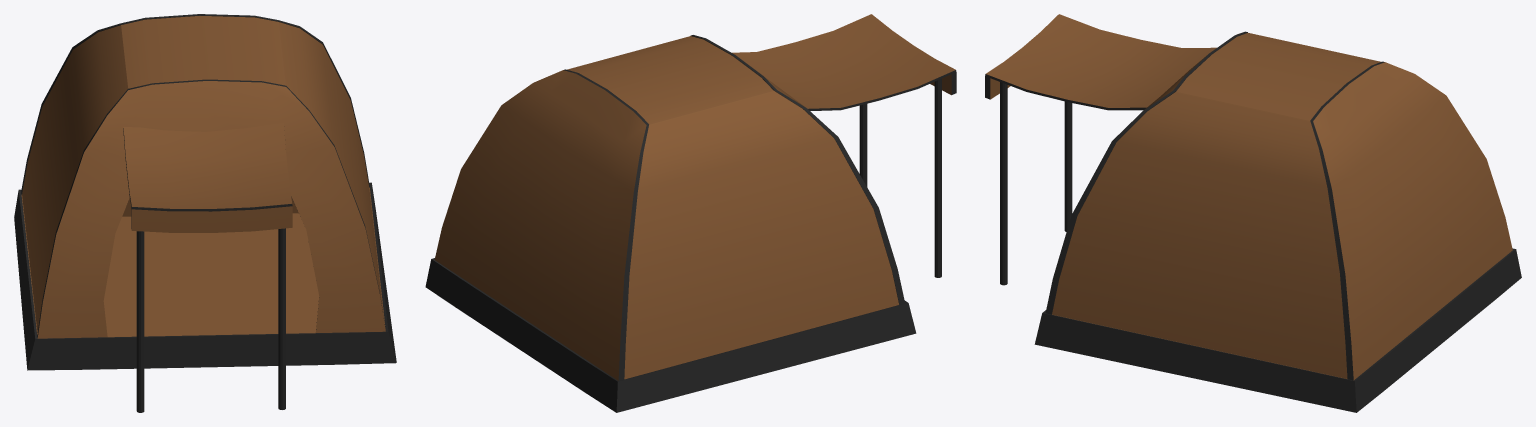
File: Tent.fbx
3 views of the same model, side by side, from view 1: azimuth 30°, elevation 25°; view 2: azimuth 150°, elevation 25°; view 3: azimuth 270°, elevation 25° (orthographic). The views are drawn at different scales.
Visible parts, largest first — view 1: body, roof, pole2, pole1; view 2: body, roof, pole2, pole1; view 3: body, roof, pole1, pole2.
Boxes of the visible parts, x1,y1,x2,y2 form: body: (14, 14, 396, 370); roof: (123, 123, 292, 232); pole2: (136, 231, 144, 412); pole1: (278, 228, 285, 409); body: (425, 35, 916, 412); roof: (732, 14, 956, 111); pole2: (934, 78, 941, 277); pole1: (859, 104, 867, 186); body: (1034, 31, 1521, 412); roof: (985, 14, 1216, 110); pole1: (1000, 82, 1007, 285); pole2: (1064, 101, 1072, 231).
Bounding box in the file's own units: 9.56 × 5.26 × 10.49.
